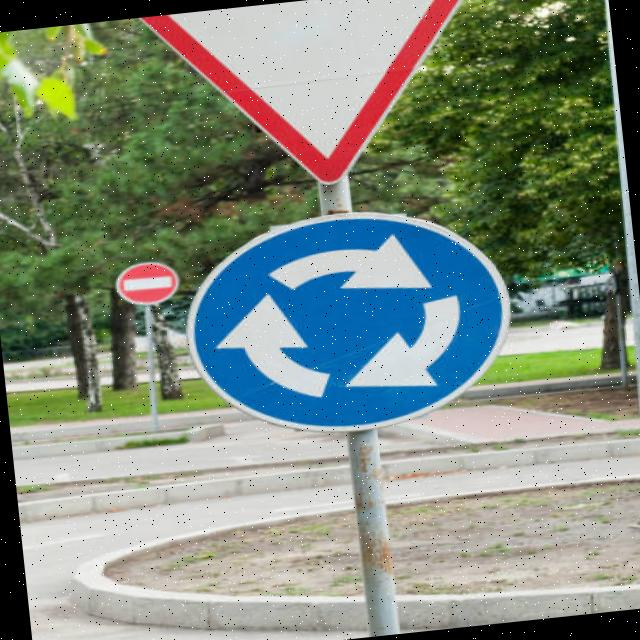round_about: (170, 195, 520, 448)
